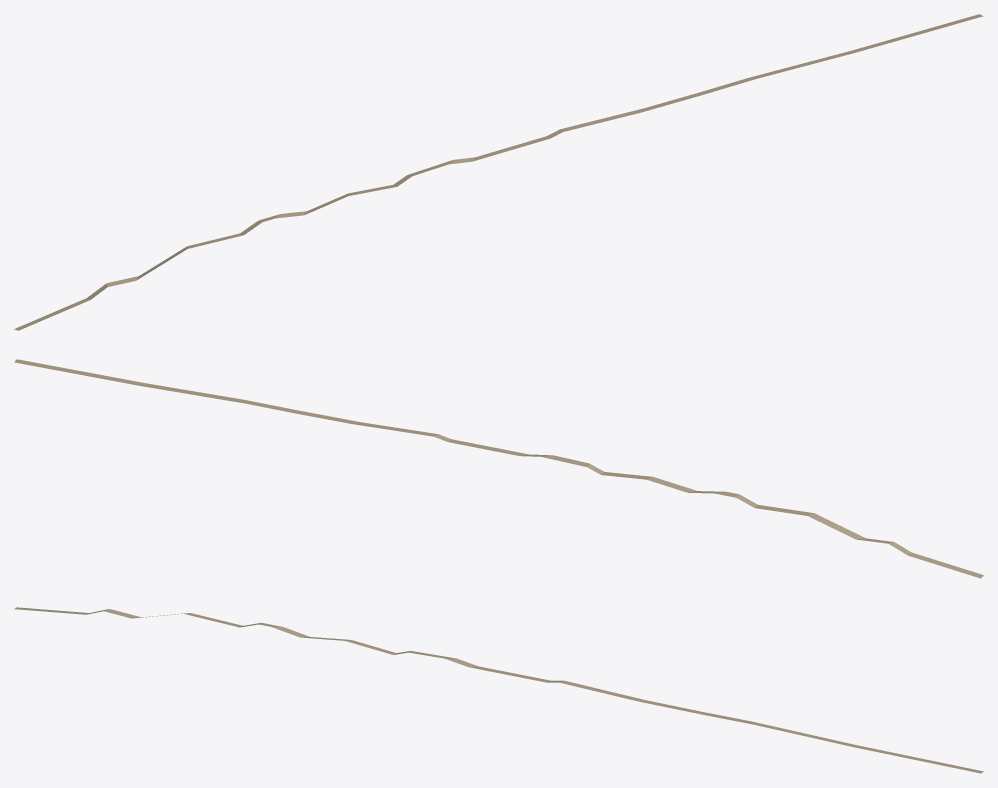
Rendered from farm_-9_4_track.glb.
3 views of the same model, one above another, from view 1: azimuth 30°, elevation 25°; view 2: azimuth 150°, elevation 25°; view 3: azimuth 330°, elevation 25° (orthographic). The views are drawn at different scales.
Visible parts, largest first — view 1: geometry_0; view 2: geometry_0; view 3: geometry_0.
Part boxes in pixels (<box>): geometry_0: <box>14,14,983,330</box>; geometry_0: <box>14,359,983,578</box>; geometry_0: <box>14,607,983,773</box>.
Bounding box in the file's own units: 504 × 18.88 × 47.76.
